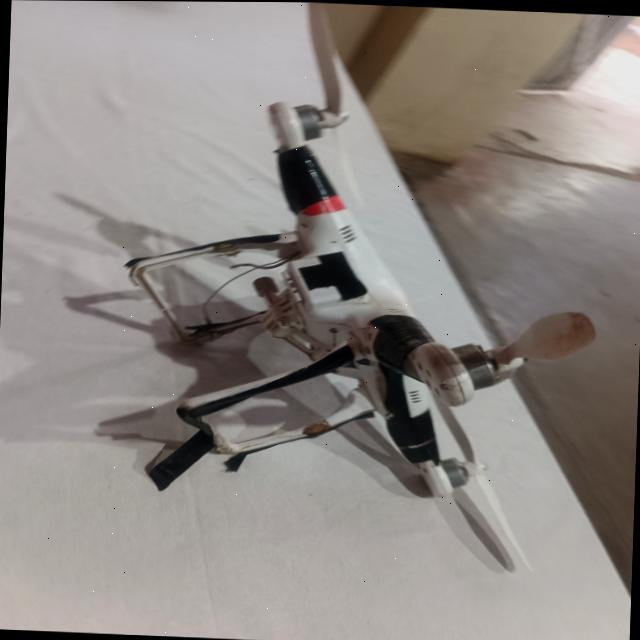drone: (87, 52, 572, 573)
